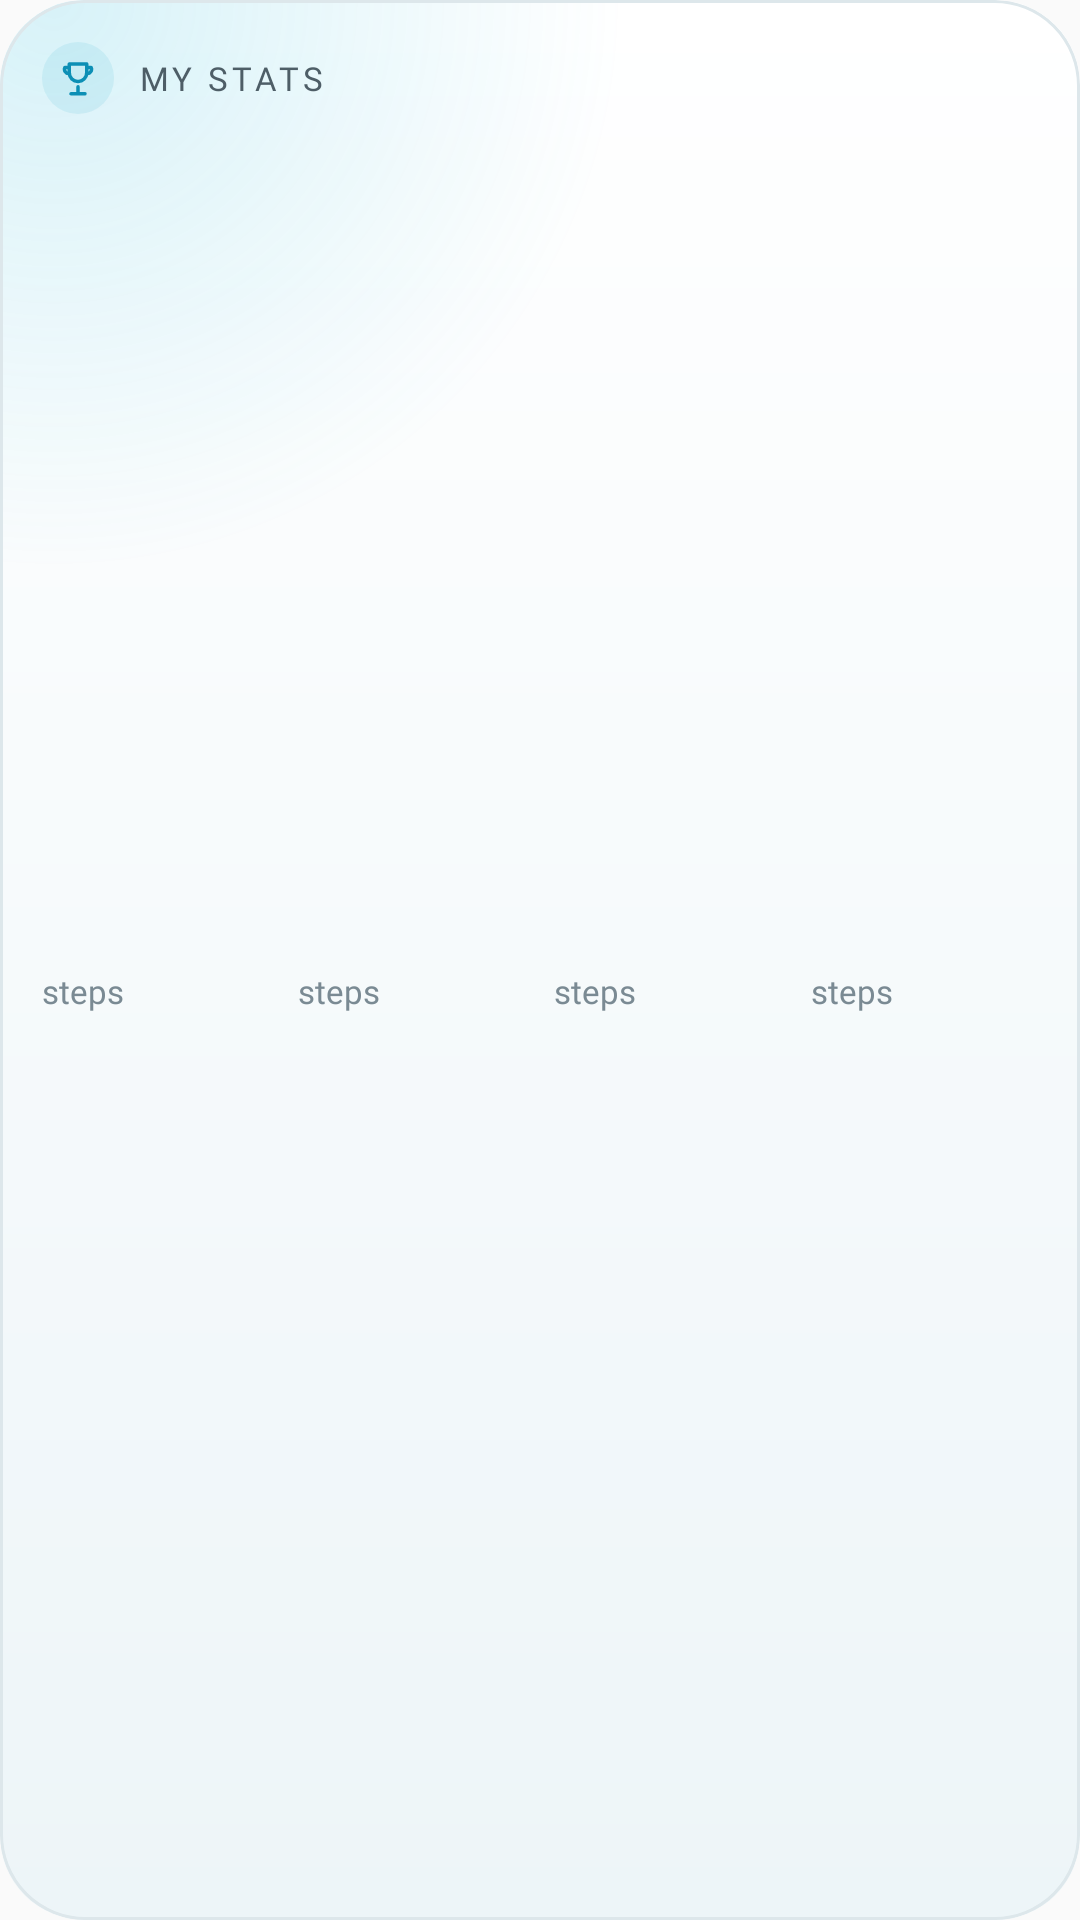

Locate icon controls on the screen. Image size 1080 × 1920, boxes as (x1, y1, x2, y2).
widget trophy: (42, 42, 114, 114)
